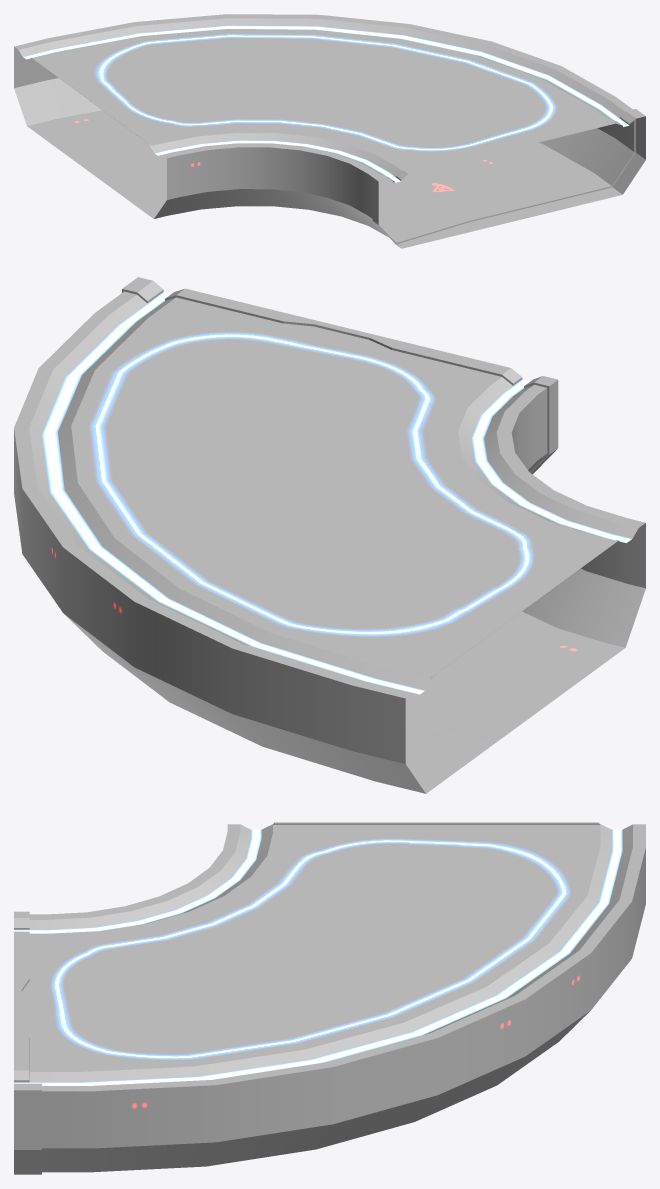
The model's file is TurnLeft_NoCaps.fbx.
The picture shows the model from 3 angles, top to bottom: view 1: azimuth 30°, elevation 25°; view 2: azimuth 150°, elevation 25°; view 3: azimuth 270°, elevation 25°; orthographic projection. The views are drawn at different scales.
Visible parts, largest first — view 1: TurnLeft_NoCaps; view 2: TurnLeft_NoCaps; view 3: TurnLeft_NoCaps.
Boxes of the visible parts, x1=… form: TurnLeft_NoCaps: x1=14, y1=14, x2=645, y2=248; TurnLeft_NoCaps: x1=14, y1=277, x2=645, y2=793; TurnLeft_NoCaps: x1=14, y1=822, x2=645, y2=1174.
Bounding box in the file's own units: 3.75 × 0.6517 × 3.74.
